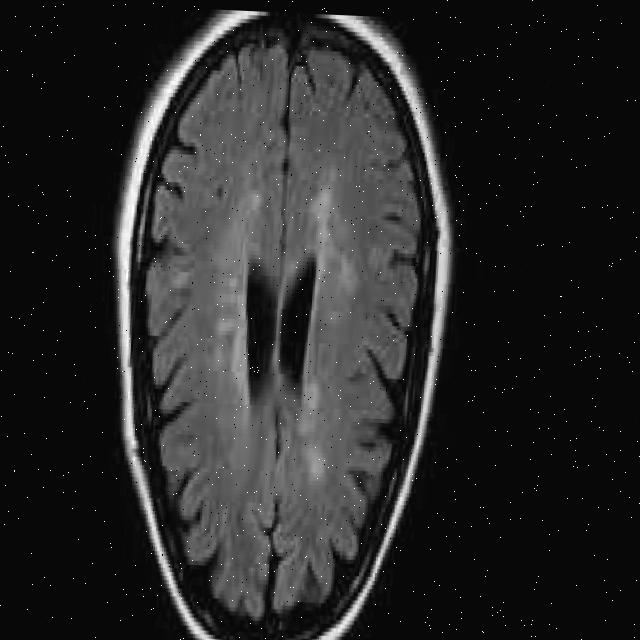NoTumor: (123, 31, 438, 632)
